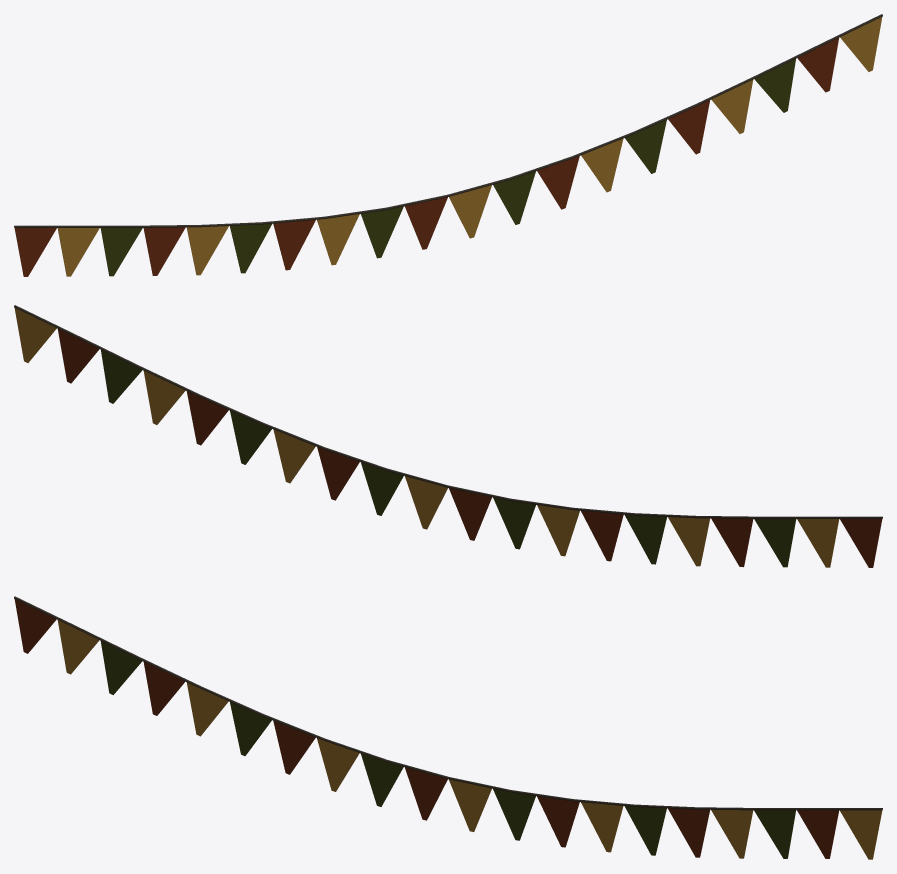
File: PennantFlag.fbx
3 views of the same model, one above another, from view 1: azimuth 30°, elevation 25°; view 2: azimuth 150°, elevation 25°; view 3: azimuth 330°, elevation 25° (orthographic).
Visible parts, largest first — view 1: PennantFlags_Cord, PennantFlag_1, PennantFlag_10, PennantFlag_20, PennantFlag_17, PennantFlag_14, PennantFlag_11, PennantFlag_16, PennantFlag_15, PennantFlag_13, PennantFlag_19, PennantFlag_2 (+9 smaller); view 2: PennantFlags_Cord, PennantFlag_1, PennantFlag_10, PennantFlag_20, PennantFlag_11, PennantFlag_17, PennantFlag_14, PennantFlag_13, PennantFlag_15, PennantFlag_16, PennantFlag_2, PennantFlag_19 (+9 smaller); view 3: PennantFlags_Cord, PennantFlag_1, PennantFlag_2, PennantFlag_10, PennantFlag_5, PennantFlag_3, PennantFlag_11, PennantFlag_20, PennantFlag_4, PennantFlag_7, PennantFlag_8, PennantFlag_9 (+9 smaller).
Part boxes in pixels (x1,y1,x2,y2): PennantFlags_Cord: (14,14,882,227); PennantFlag_1: (840,17,882,71); PennantFlag_10: (449,185,491,238); PennantFlag_20: (14,227,56,276); PennantFlag_17: (143,227,185,275); PennantFlag_14: (273,220,315,270); PennantFlag_11: (405,197,447,249); PennantFlag_16: (186,226,228,275); PennantFlag_15: (230,223,271,273); PennantFlag_13: (317,214,359,265); PennantFlag_19: (57,228,99,276); PennantFlag_2: (797,38,838,92); PennantFlags_Cord: (14,305,882,518); PennantFlag_1: (14,308,56,362); PennantFlag_10: (405,476,447,529); PennantFlag_20: (840,518,882,567); PennantFlag_11: (449,488,491,540); PennantFlag_17: (711,518,753,567); PennantFlag_14: (581,511,623,561); PennantFlag_13: (537,505,579,556); PennantFlag_15: (625,514,666,564); PennantFlag_16: (668,517,710,566); PennantFlag_2: (57,329,99,383); PennantFlag_19: (797,519,839,567); PennantFlags_Cord: (14,596,882,810); PennantFlag_1: (840,810,882,859); PennantFlag_2: (797,810,839,858); PennantFlag_10: (449,779,491,831); PennantFlag_5: (668,808,709,857); PennantFlag_3: (754,810,795,858); PennantFlag_11: (405,767,447,820); PennantFlag_20: (14,599,56,653); PennantFlag_4: (711,809,753,858); PennantFlag_7: (581,802,623,852); PennantFlag_8: (537,796,579,847); PennantFlag_9: (493,788,535,840).
Size of the model in its own units: 24.05 by 3.28 by 0.0626.
